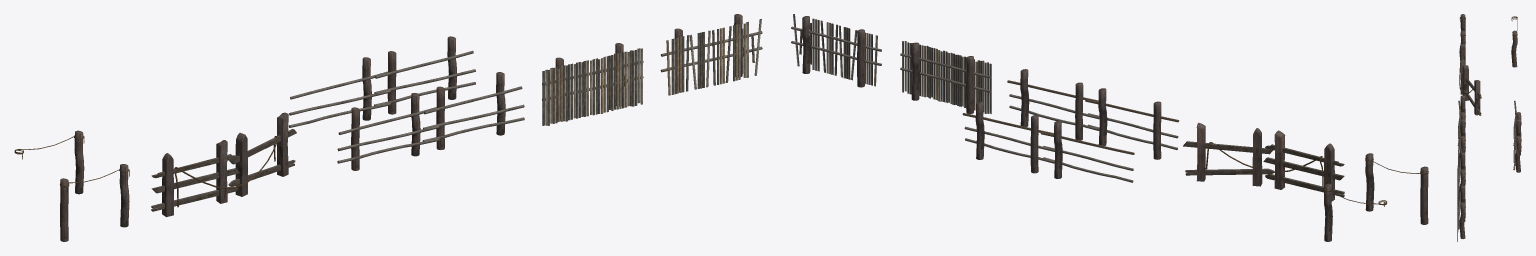
Rendered from Wooden_fence.fbx.
3 renders of one model, left to right at view 1: azimuth 30°, elevation 25°; view 2: azimuth 150°, elevation 25°; view 3: azimuth 270°, elevation 25°, orthographic. The views are drawn at different scales.
Parts seen in each view (by area): view 1: Leaky_wooden_planks, Leaking_at_the_bend, Leaky_wooden_planksV2, Wooden_fence, Wooden_fence2, Jump_rope, Jump_rope2; view 2: Leaky_wooden_planks, Leaking_at_the_bend, Leaky_wooden_planksV2, Wooden_fence, Wooden_fence2, Jump_rope, Jump_rope2; view 3: Leaking_at_the_bend, Wooden_fence2, Wooden_fence, Leaky_wooden_planksV2, Leaky_wooden_planks, Jump_rope2, Jump_rope.
Part boxes in pixels (box(x1,y1,x2,y2)): Leaky_wooden_planks: box(542, 43, 643, 125); Leaking_at_the_bend: box(151, 112, 296, 217); Leaky_wooden_planksV2: box(660, 14, 762, 95); Wooden_fence: box(337, 72, 524, 170); Wooden_fence2: box(288, 36, 475, 127); Jump_rope: box(60, 164, 129, 241); Jump_rope2: box(14, 130, 84, 194); Leaky_wooden_planks: box(900, 41, 991, 113); Leaking_at_the_bend: box(1183, 122, 1344, 201); Leaky_wooden_planksV2: box(791, 14, 881, 87); Wooden_fence: box(1007, 69, 1179, 159); Wooden_fence2: box(962, 101, 1134, 182); Jump_rope: box(1365, 153, 1428, 224); Jump_rope2: box(1323, 183, 1387, 241); Leaking_at_the_bend: box(1459, 44, 1481, 115); Wooden_fence2: box(1513, 100, 1521, 172); Wooden_fence: box(1457, 95, 1465, 162); Leaky_wooden_planksV2: box(1457, 185, 1465, 241); Leaky_wooden_planks: box(1457, 151, 1465, 202); Jump_rope2: box(1511, 16, 1517, 67); Jump_rope: box(1459, 14, 1465, 60).
Bounding box in the file's own units: 1407 × 119 × 195.
Materials: 1 (1 with a texture image).
